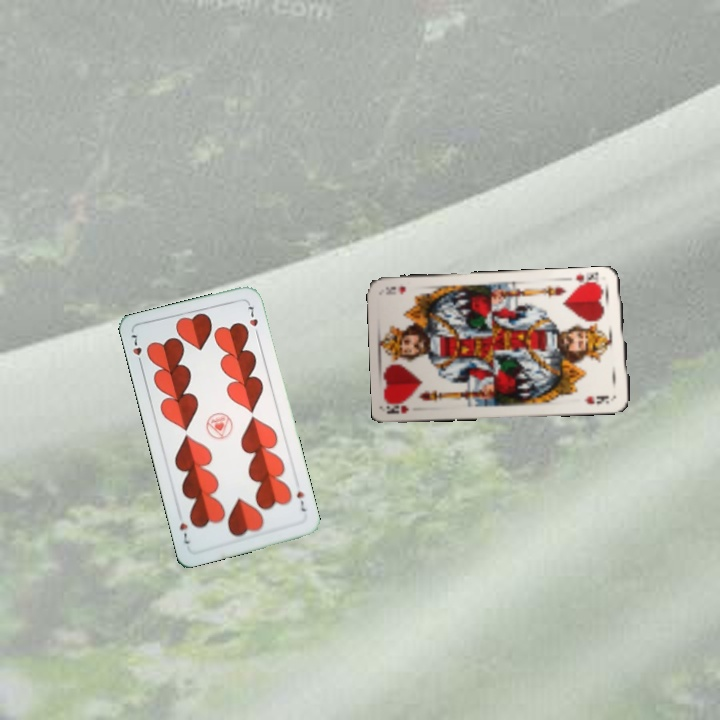H7: (127, 330, 145, 369), (292, 487, 308, 514)
HK: (572, 269, 604, 290), (386, 399, 411, 416)
